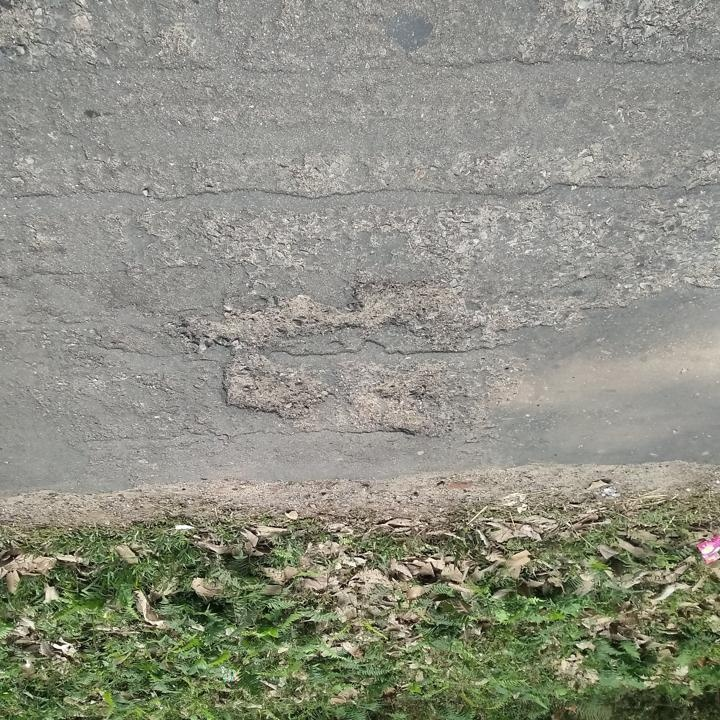pothole: (172, 274, 486, 442)
